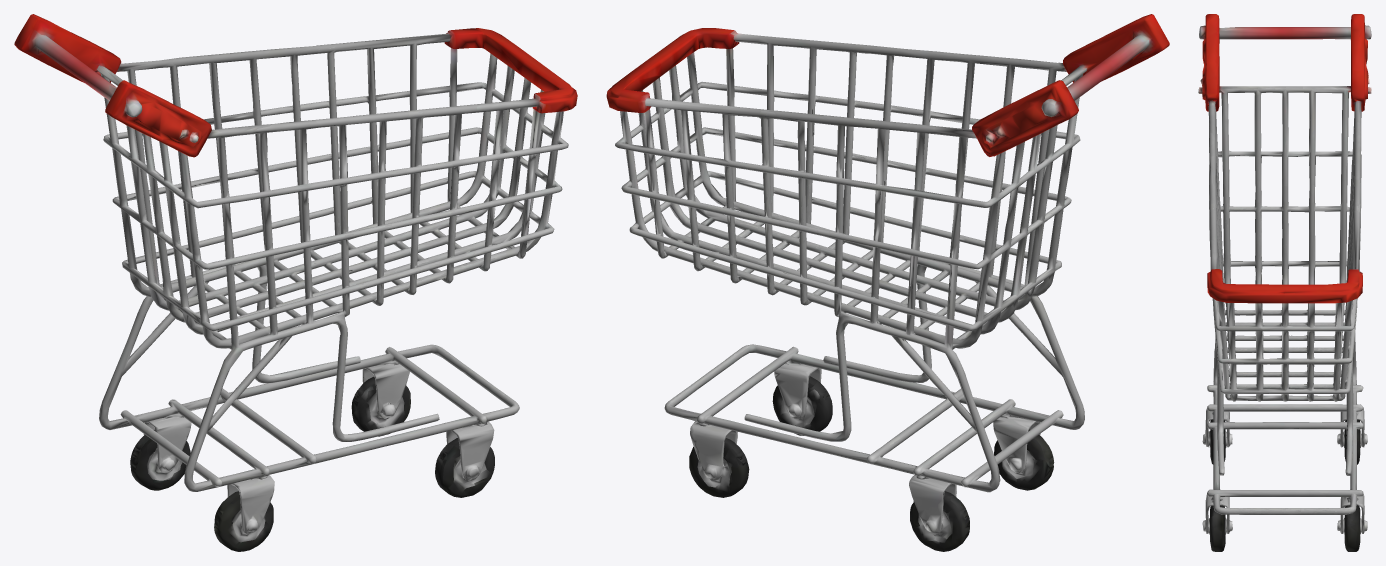
File: cart.glb
3 renders of one model, left to right at view 1: azimuth 30°, elevation 25°; view 2: azimuth 150°, elevation 25°; view 3: azimuth 270°, elevation 25°, orthographic. The views are drawn at different scales.
Visible parts, largest first — view 1: tripo_node_e8a1070b-6aa3-493c-aeac-855ed309f3f0; view 2: tripo_node_e8a1070b-6aa3-493c-aeac-855ed309f3f0; view 3: tripo_node_e8a1070b-6aa3-493c-aeac-855ed309f3f0.
Boxes of the visible parts, x1,y1,x2,y2 form: tripo_node_e8a1070b-6aa3-493c-aeac-855ed309f3f0: [14, 14, 577, 551]; tripo_node_e8a1070b-6aa3-493c-aeac-855ed309f3f0: [606, 14, 1169, 551]; tripo_node_e8a1070b-6aa3-493c-aeac-855ed309f3f0: [1198, 14, 1371, 551].
Bounding box in the file's own units: 0.979 × 0.9785 × 0.3833.
1 material, 1 textured.
